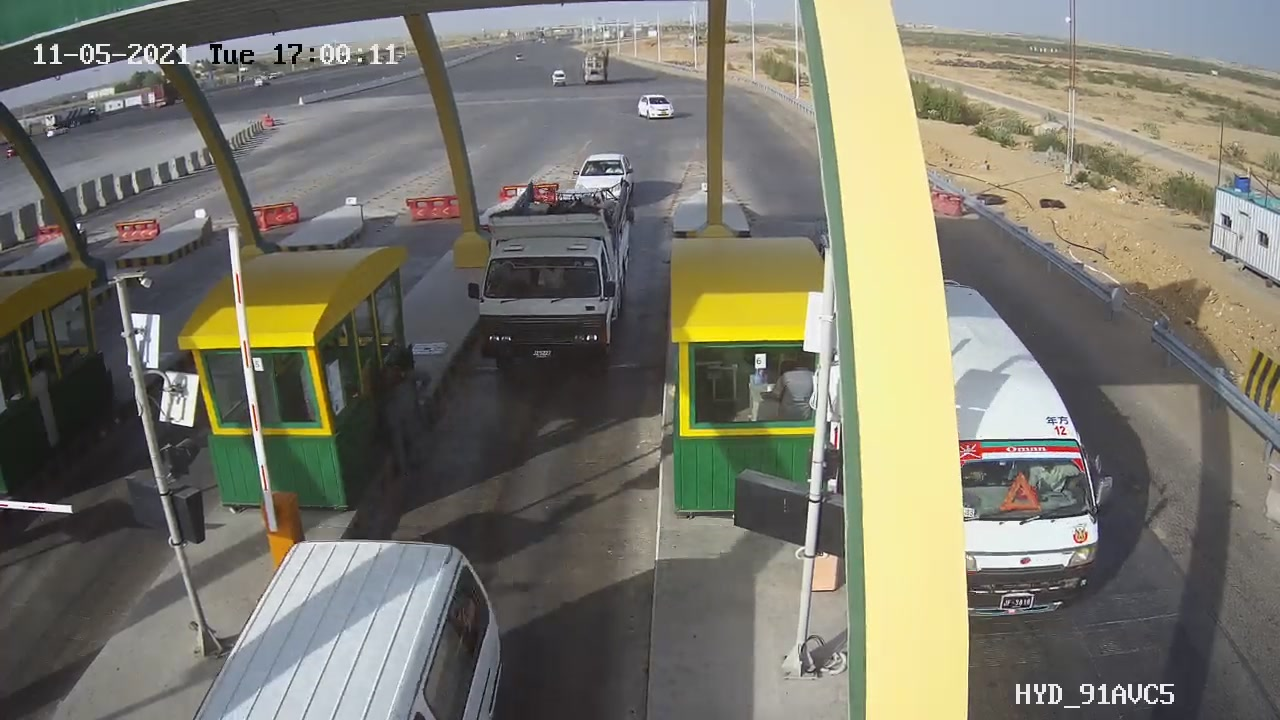F3: (451, 174, 650, 378)
